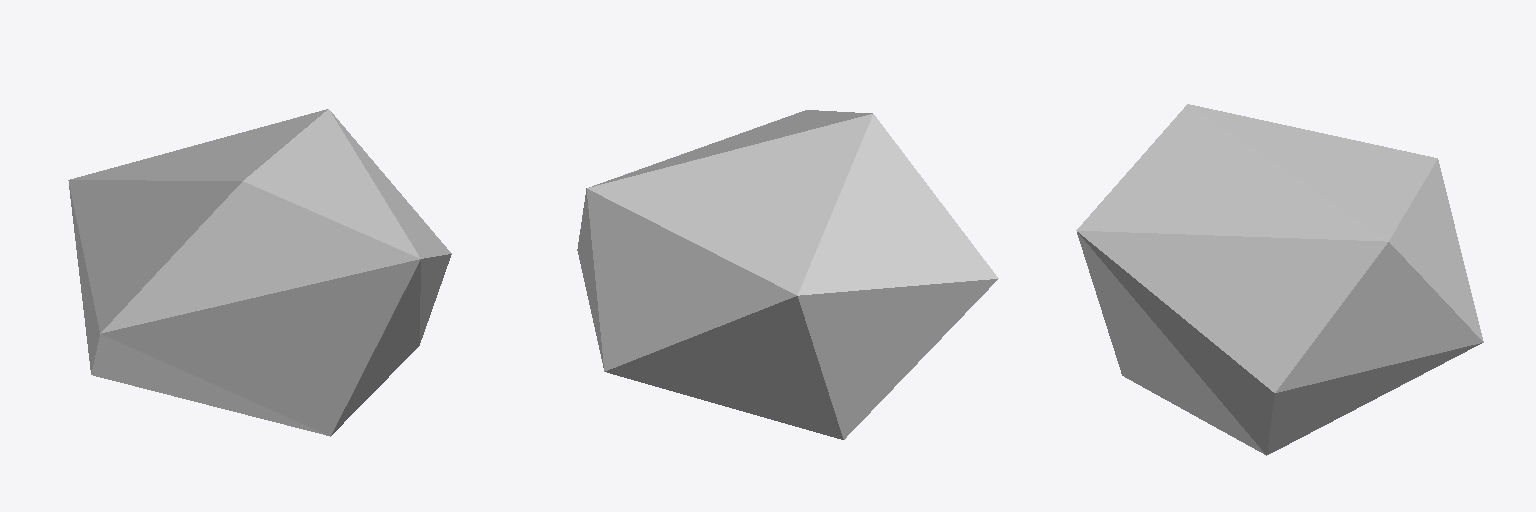
The model's file is Rock_2.obj.
The picture shows the model from 3 angles: view 1: azimuth 30°, elevation 25°; view 2: azimuth 150°, elevation 25°; view 3: azimuth 270°, elevation 25°; orthographic projection.
Visible parts, largest first — view 1: Rock_2_Icosphere.004; view 2: Rock_2_Icosphere.004; view 3: Rock_2_Icosphere.004.
Boxes of the visible parts, x1=… form: Rock_2_Icosphere.004: x1=68, y1=109, x2=451, y2=436; Rock_2_Icosphere.004: x1=577, y1=110, x2=998, y2=439; Rock_2_Icosphere.004: x1=1076, y1=104, x2=1483, y2=455.
Bounding box in the file's own units: 0.8659 × 0.5272 × 0.7904.